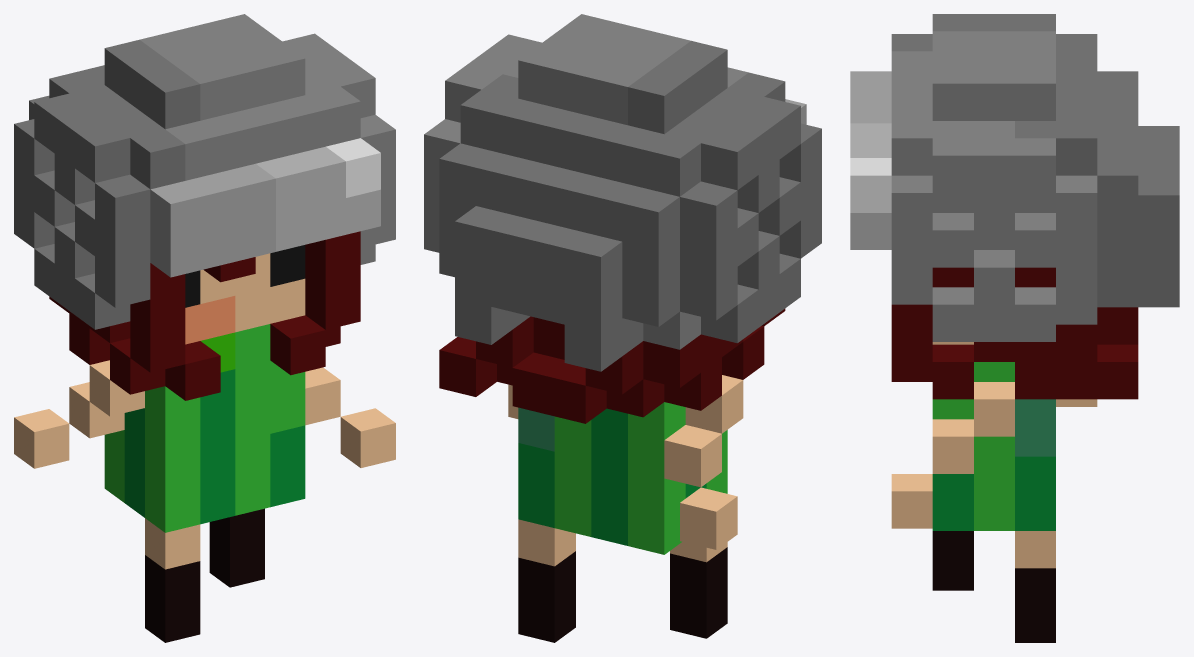
The model's file is SM_Voxel_Character_walk_2.glb.
3 renders of one model, left to right at view 1: azimuth 30°, elevation 25°; view 2: azimuth 150°, elevation 25°; view 3: azimuth 270°, elevation 25°, orthographic. The views are drawn at different scales.
Parts seen in each view (by area): view 1: SM_Voxel_Character_walk_2; view 2: SM_Voxel_Character_walk_2; view 3: SM_Voxel_Character_walk_2.
Boxes of the visible parts, x1=… form: SM_Voxel_Character_walk_2: x1=14, y1=14, x2=395, y2=642; SM_Voxel_Character_walk_2: x1=424, y1=14, x2=821, y2=642; SM_Voxel_Character_walk_2: x1=850, y1=14, x2=1179, y2=642.
Size of the model in its own units: 0.8 by 1.5 by 0.8.
Materials: 1 (1 with a texture image).
